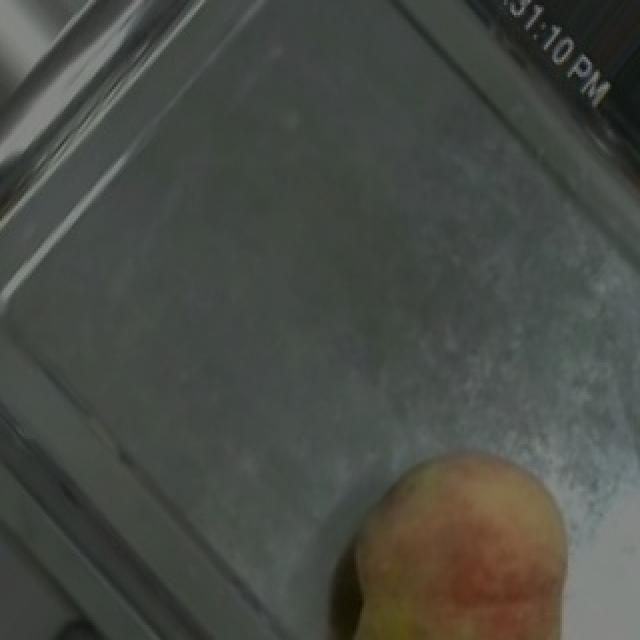Fruit: (312, 426, 600, 640)
